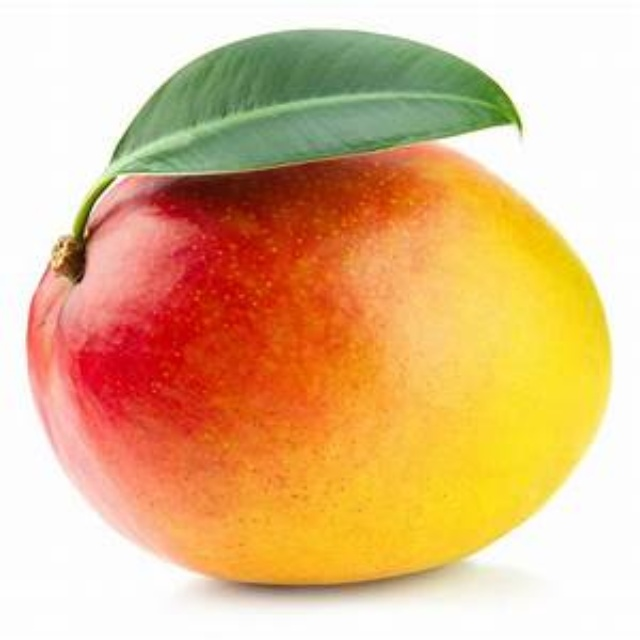mango: (27, 125, 615, 590)
